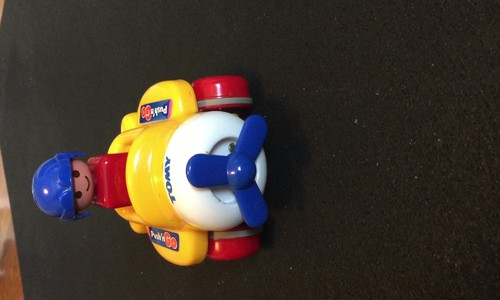toy: (28, 75, 280, 267)
